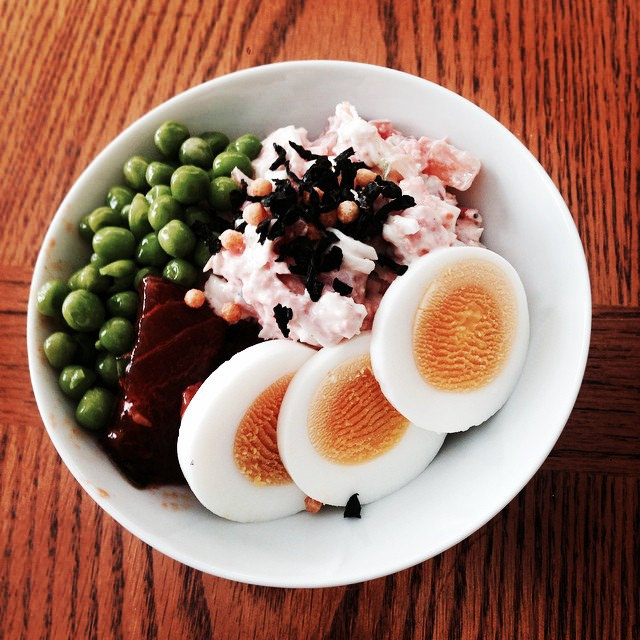boiled peas: (92, 134, 234, 274), (43, 286, 127, 412)
fried egg: (372, 239, 532, 451), (171, 334, 348, 522), (275, 340, 440, 518)
